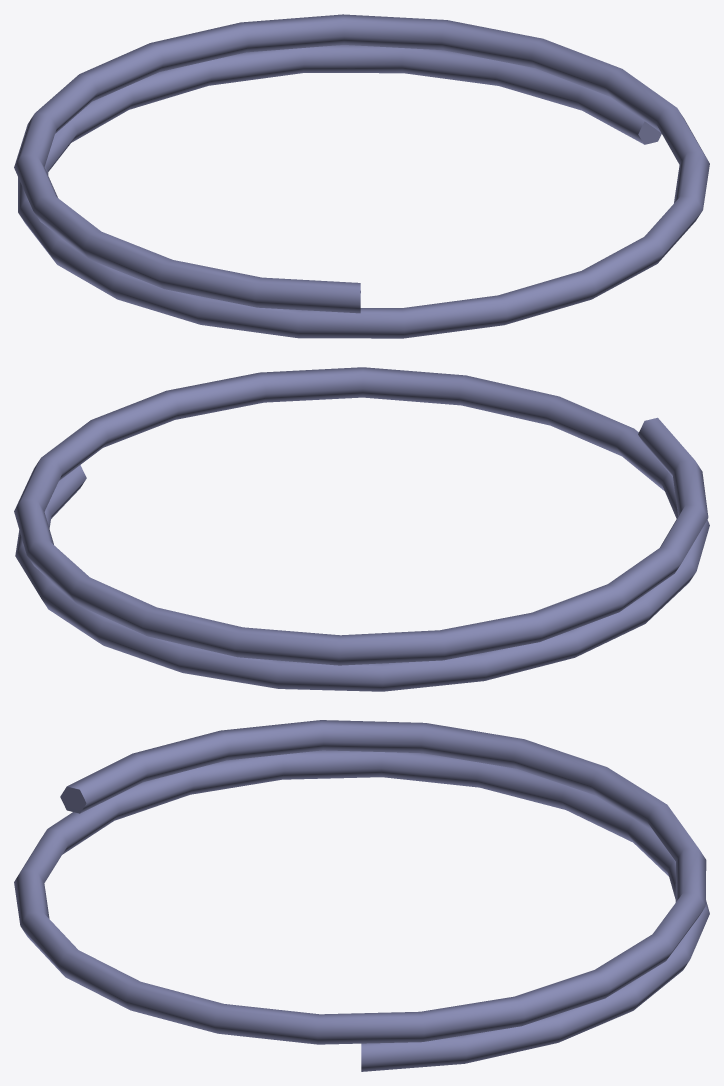
The model's file is Llavero Espiral.fbx.
3 renders of one model, top to bottom at view 1: azimuth 30°, elevation 25°; view 2: azimuth 150°, elevation 25°; view 3: azimuth 270°, elevation 25°, orthographic.
Parts seen in each view (by area): view 1: Llavero_Espiral; view 2: Llavero_Espiral; view 3: Llavero_Espiral.
Boxes of the visible parts, box(x1,y1,x2,y2) form: Llavero_Espiral: box(14, 14, 709, 338); Llavero_Espiral: box(14, 367, 709, 691); Llavero_Espiral: box(14, 720, 709, 1071).
Size of the model in its own units: 0.0163 by 0.00176 by 0.0162.
